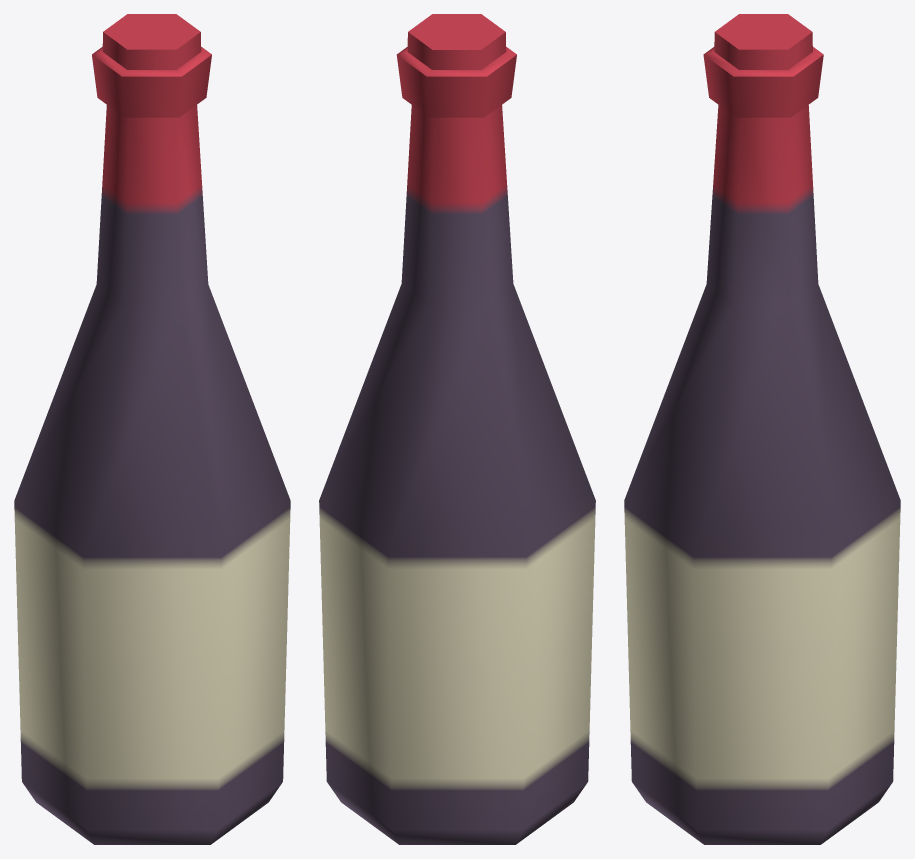
The model's file is SM_Wine_Botlte_2_03.fbx.
3 renders of one model, left to right at view 1: azimuth 30°, elevation 25°; view 2: azimuth 150°, elevation 25°; view 3: azimuth 270°, elevation 25°, orthographic.
Visible parts, largest first — view 1: SM_Wine_Botlte_2_03; view 2: SM_Wine_Botlte_2_03; view 3: SM_Wine_Botlte_2_03.
Part boxes in pixels (x1,y1,x2,y2): SM_Wine_Botlte_2_03: [14, 14, 290, 844]; SM_Wine_Botlte_2_03: [319, 14, 595, 844]; SM_Wine_Botlte_2_03: [624, 14, 900, 844].
Size of the model in its own units: 7.54 by 26.76 by 8.71.
